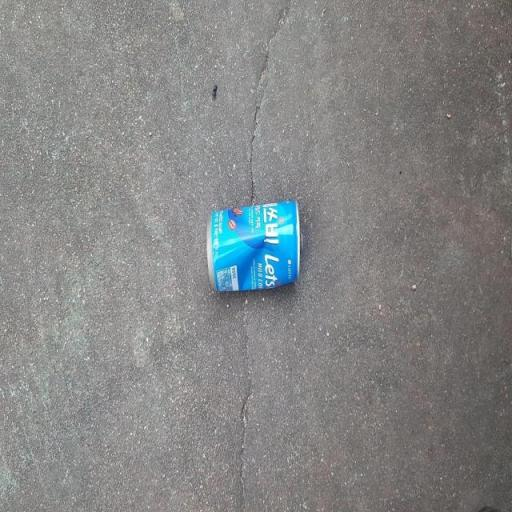metal: (193, 191, 324, 309)
